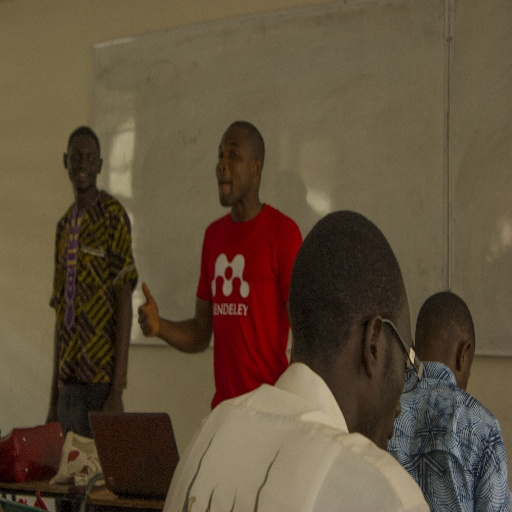hand: (131, 285, 164, 349), (102, 394, 124, 413), (44, 408, 55, 425)
